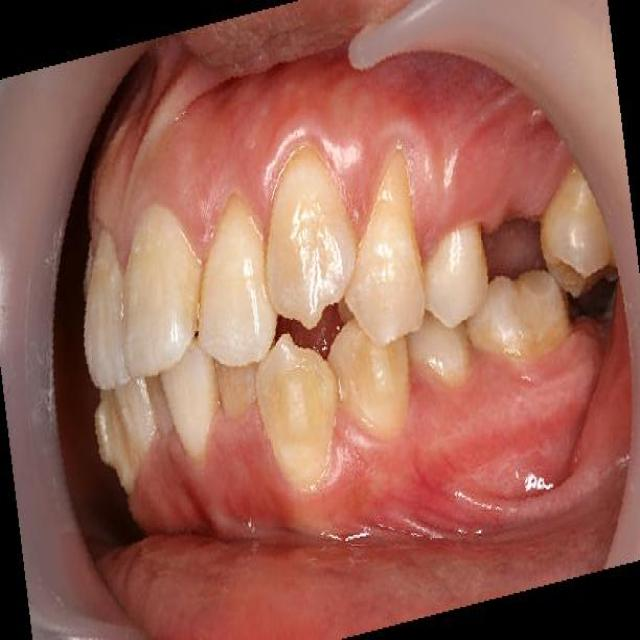caries: (565, 275, 617, 335)
